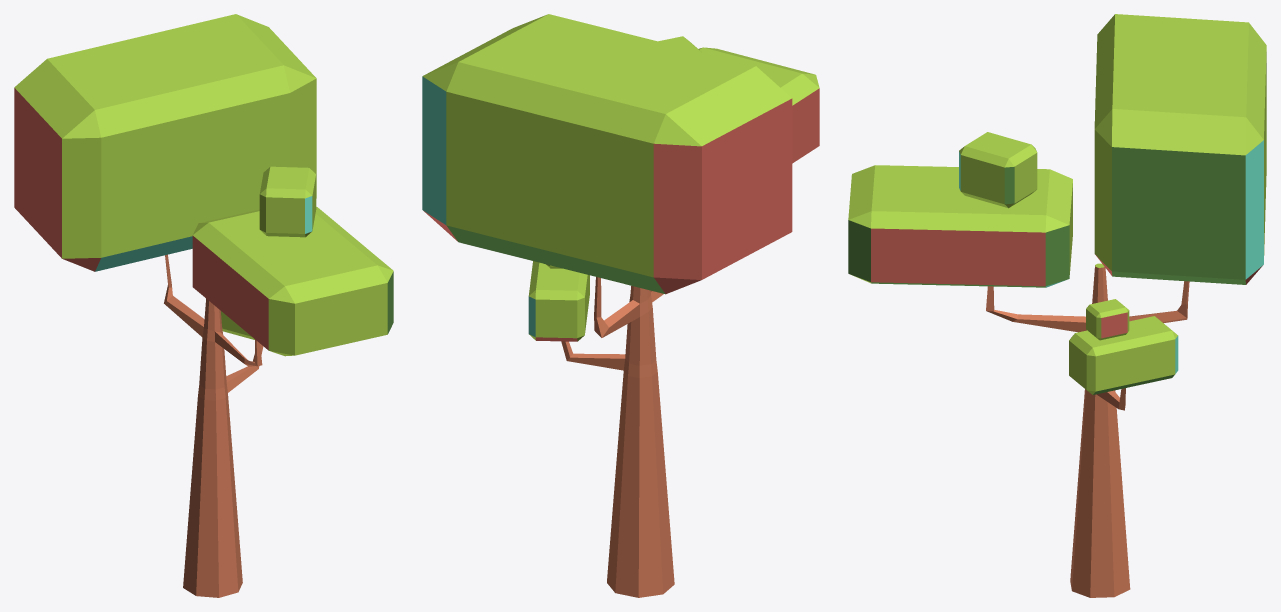
Rendered from ENV_greenblocktrees_color.fbx.
The picture shows the model from 3 angles, left to right: view 1: azimuth 30°, elevation 25°; view 2: azimuth 150°, elevation 25°; view 3: azimuth 270°, elevation 25°; orthographic projection. The views are drawn at different scales.
Visible parts, largest first — view 1: Cube.001; view 2: Cube.001; view 3: Cube.001.
Part boxes in pixels (box(x1,y1,x2,y2)): Cube.001: box(14, 14, 393, 597); Cube.001: box(422, 14, 819, 597); Cube.001: box(848, 14, 1266, 597).
Bounding box in the file's own units: 740 × 570 × 1005.
